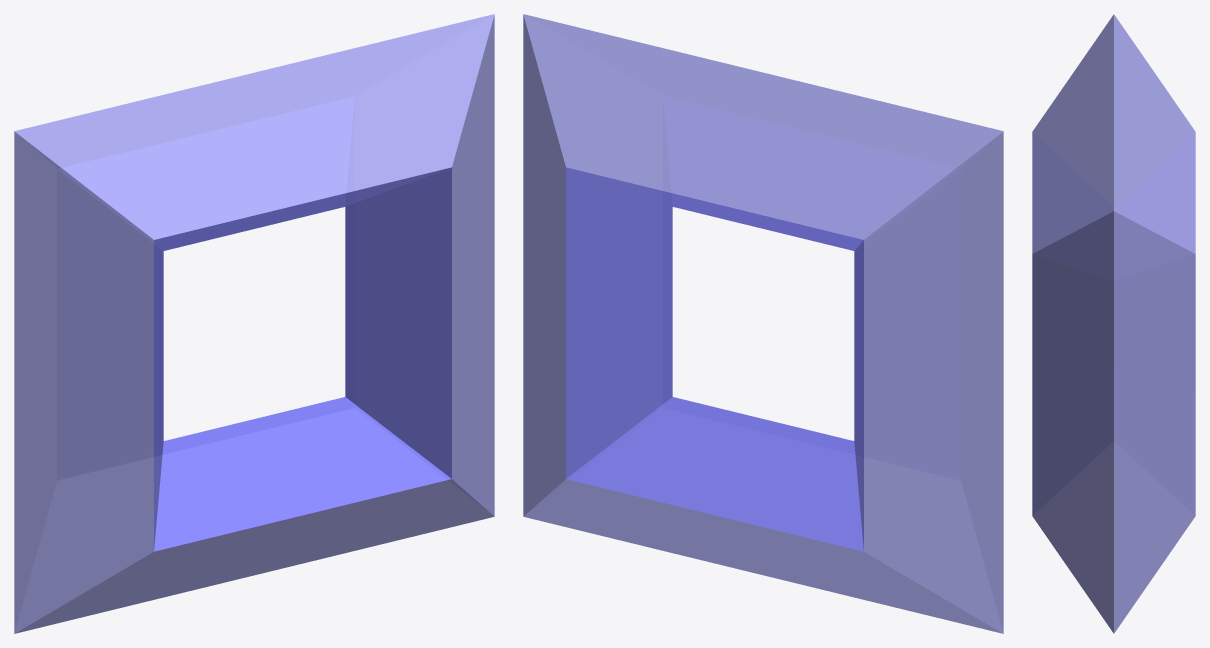
Rendered from Regular4TetragonalToroid.obj.
3 renders of one model, left to right at view 1: azimuth 30°, elevation 25°; view 2: azimuth 150°, elevation 25°; view 3: azimuth 270°, elevation 25°, orthographic. The views are drawn at different scales.
Size of the model in its own units: 2 by 2 by 0.7.
